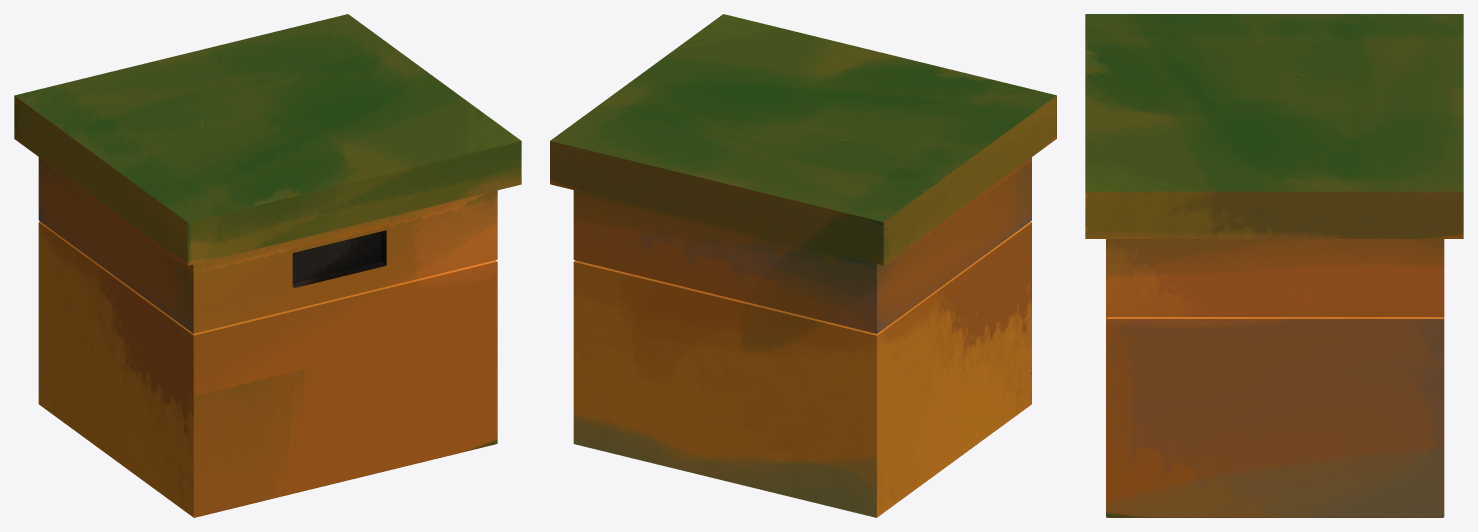
File: LO_beehive.glb
3 renders of one model, left to right at view 1: azimuth 30°, elevation 25°; view 2: azimuth 150°, elevation 25°; view 3: azimuth 270°, elevation 25°, orthographic. The views are drawn at different scales.
Parts seen in each view (by area): view 1: BroodCase; view 2: BroodCase; view 3: BroodCase.
Boxes of the visible parts, x1,y1,x2,y2 form: BroodCase: [14, 14, 521, 517]; BroodCase: [550, 14, 1056, 517]; BroodCase: [1085, 14, 1463, 517].
Size of the model in its own units: 0.8414 by 0.7394 by 0.7575.
Materials: 1 (1 with a texture image).
